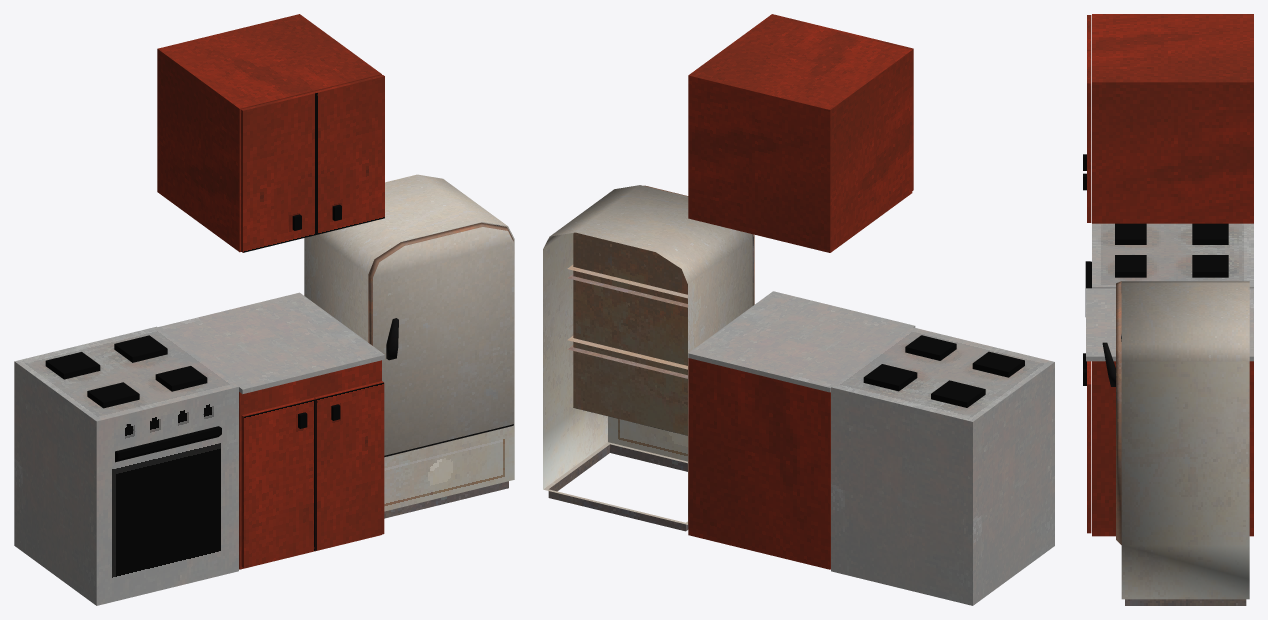
The model's file is cooker.glb.
3 renders of one model, left to right at view 1: azimuth 30°, elevation 25°; view 2: azimuth 150°, elevation 25°; view 3: azimuth 270°, elevation 25°, orthographic.
Visible parts, largest first — view 1: Cube.001, fridge-door, box-up, fridge, box-down, box-down-door2, box-up-door1, box-down-door1, box-up-door2; view 2: Cube.001, fridge, box-up, box-down; view 3: fridge, box-up, Cube.001, box-down, fridge-door, box-up-door2, box-down-door1, box-up-door1.
Boxes of the visible parts, x1,y1,x2,y2 form: Cube.001: [14, 326, 238, 605]; fridge-door: [368, 222, 513, 457]; box-up: [157, 14, 381, 252]; fridge: [304, 174, 514, 518]; box-down: [158, 292, 384, 569]; box-down-door2: [241, 397, 315, 567]; box-up-door1: [241, 91, 316, 252]; box-down-door1: [314, 381, 384, 550]; box-up-door2: [314, 75, 384, 234]; Cube.001: [831, 327, 1054, 605]; fridge: [543, 185, 752, 531]; box-up: [688, 15, 912, 252]; box-down: [688, 291, 915, 569]; fridge: [1121, 281, 1249, 605]; box-up: [1092, 14, 1253, 223]; Cube.001: [1085, 223, 1253, 316]; box-down: [1086, 288, 1253, 536]; fridge-door: [1102, 281, 1121, 544]; box-up-door2: [1083, 50, 1091, 222]; box-down-door1: [1083, 361, 1091, 533]; box-up-door1: [1083, 15, 1091, 170].
Size of the model in its own units: 6.08 by 6.21 by 2.11.
Materials: 3 (3 with a texture image).
